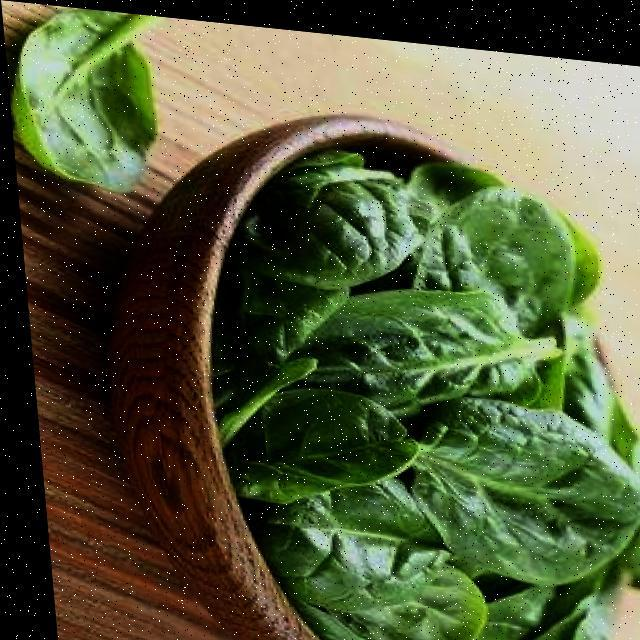Spinach: (183, 119, 640, 640), (0, 0, 197, 213)
